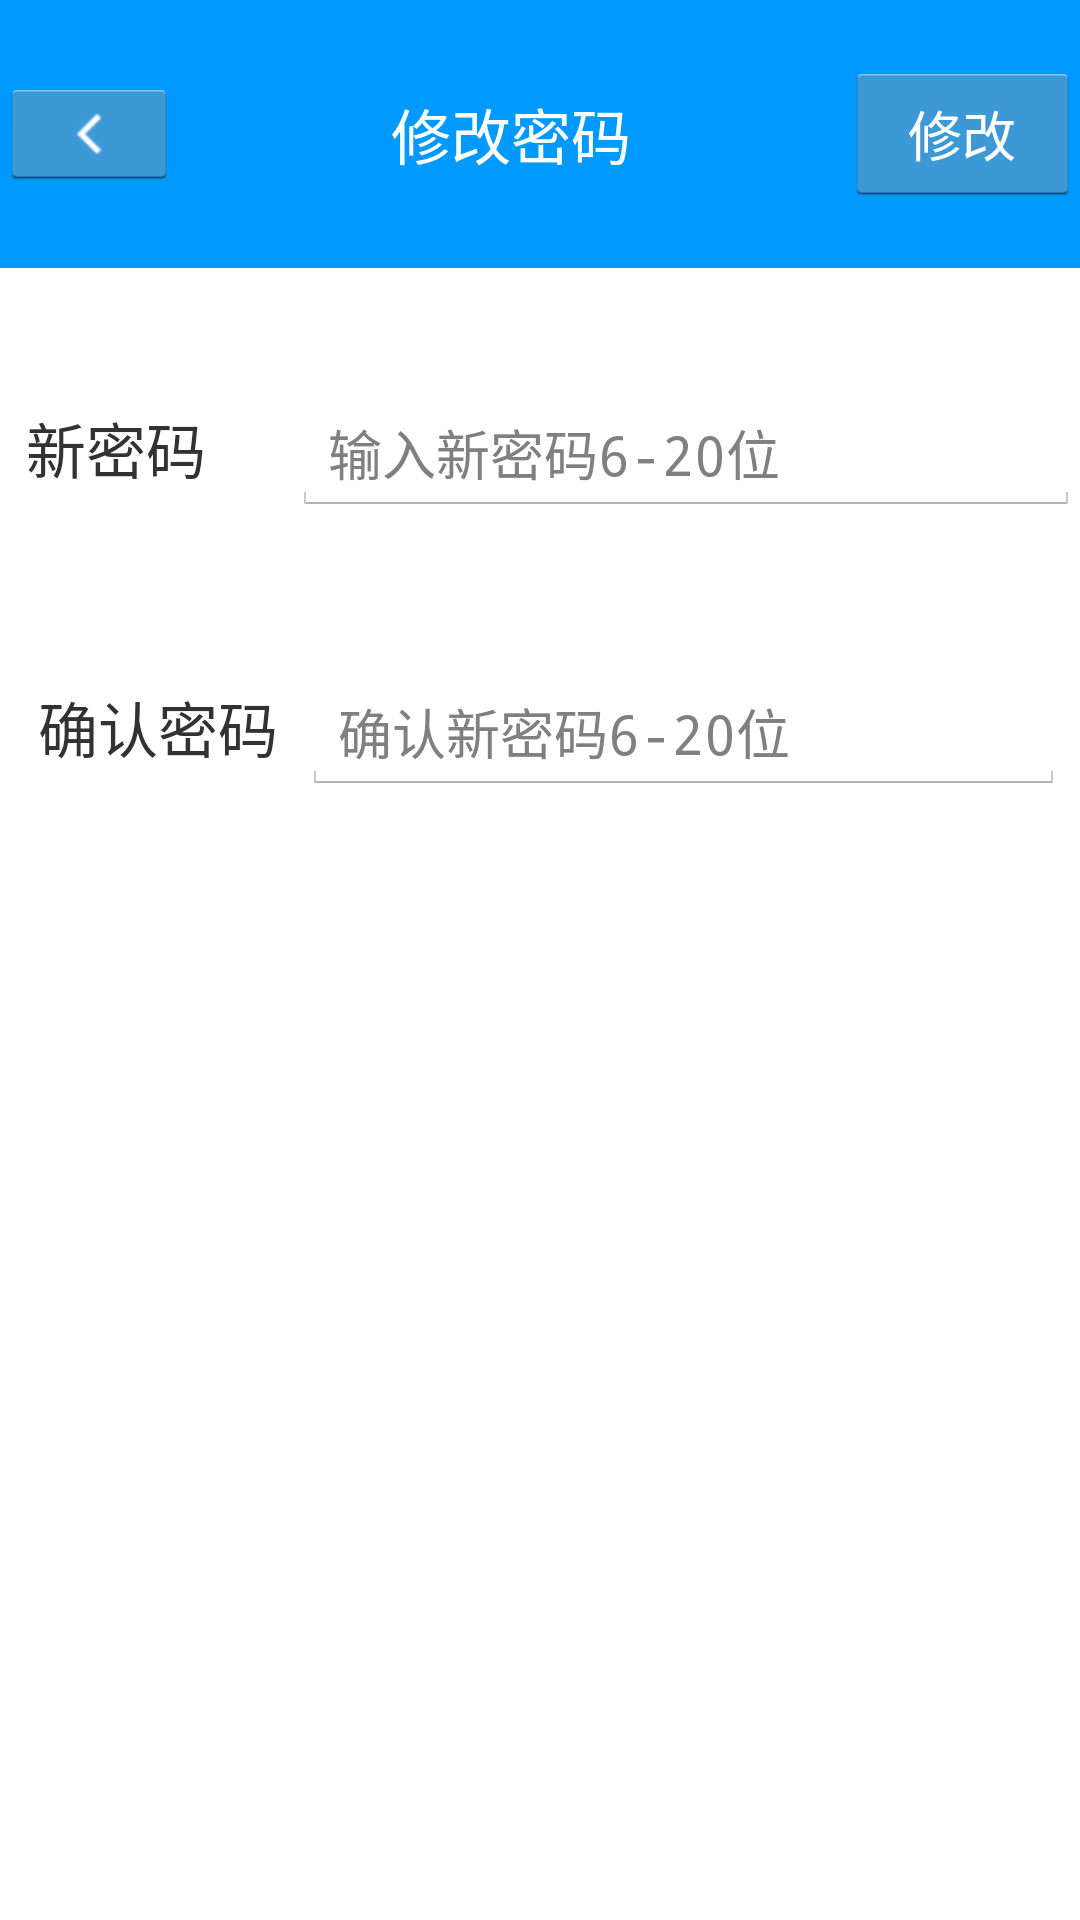

Screen size 1080*1920. Icon name, then its center in pixels as (x=x, y=y):
back: (x=89, y=134)
